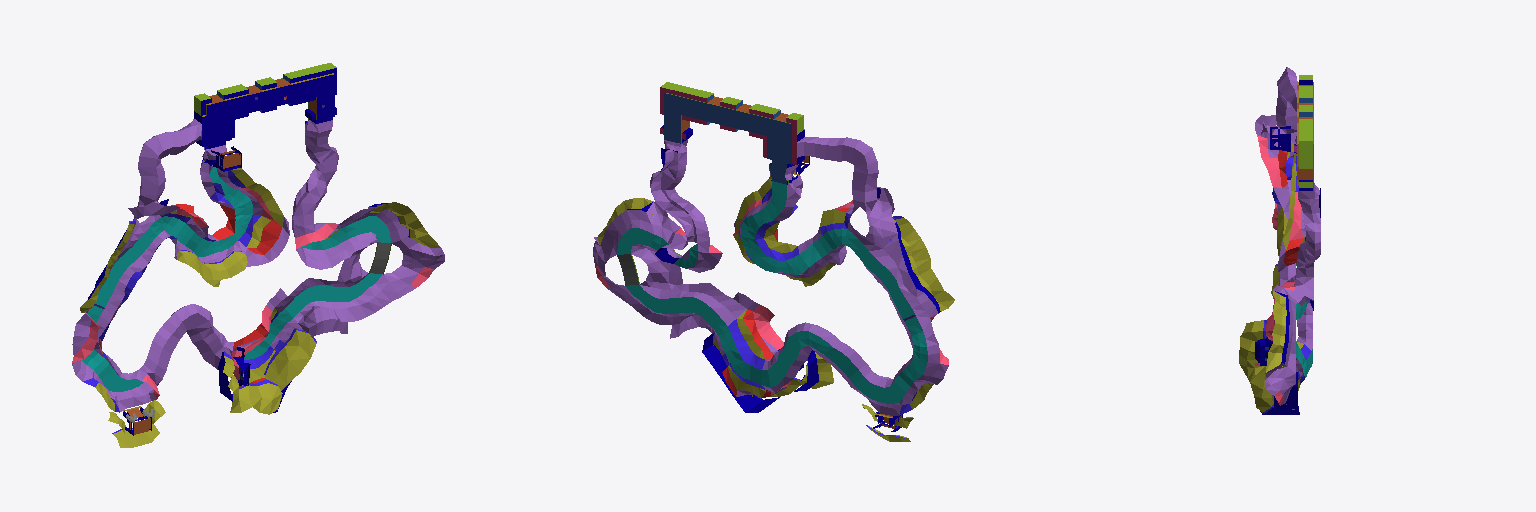
File: AAATRACK.GDB.obj
3 views of the same model, side by side, from view 1: azimuth 30°, elevation 25°; view 2: azimuth 150°, elevation 25°; view 3: azimuth 270°, elevation 25° (orthographic).
Bounding box in the file's own units: 1624 × 1352 × 316.